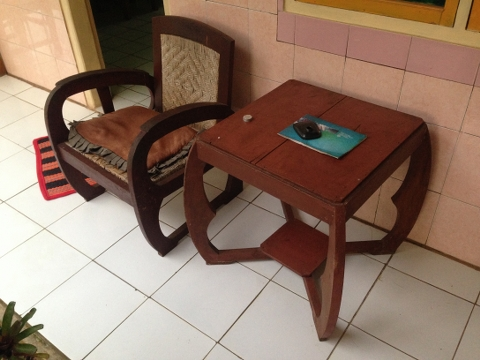kursi: (44, 16, 244, 256)
meja: (183, 79, 432, 340)
